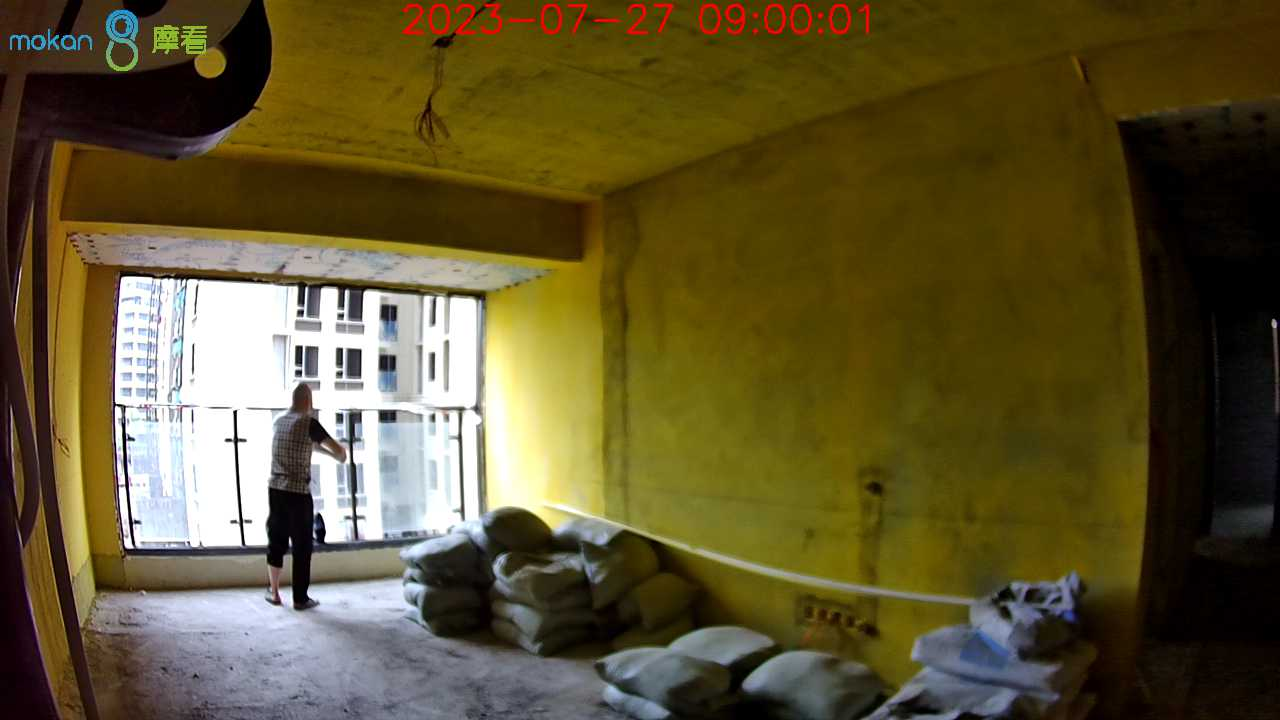people: (260, 380, 343, 611)
window: (102, 269, 490, 539)
